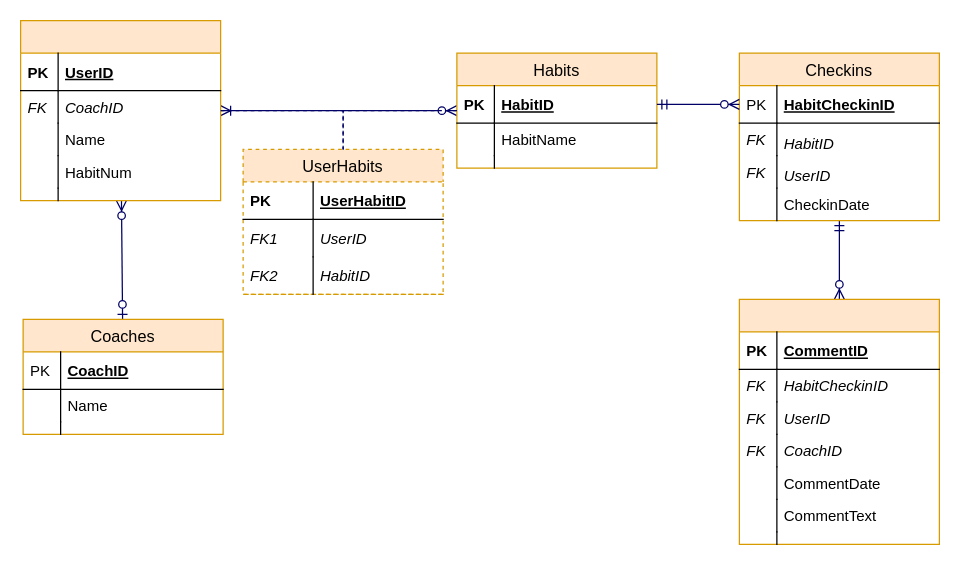
This 960x565 diagram has some shape labels left out. The shapes that lost their labels are listed below. From the top down, each one's box as (x1, y1, x2, y2) in pixels, then its label:
(19, 19, 221, 201): Users
(738, 298, 939, 544): Comments
